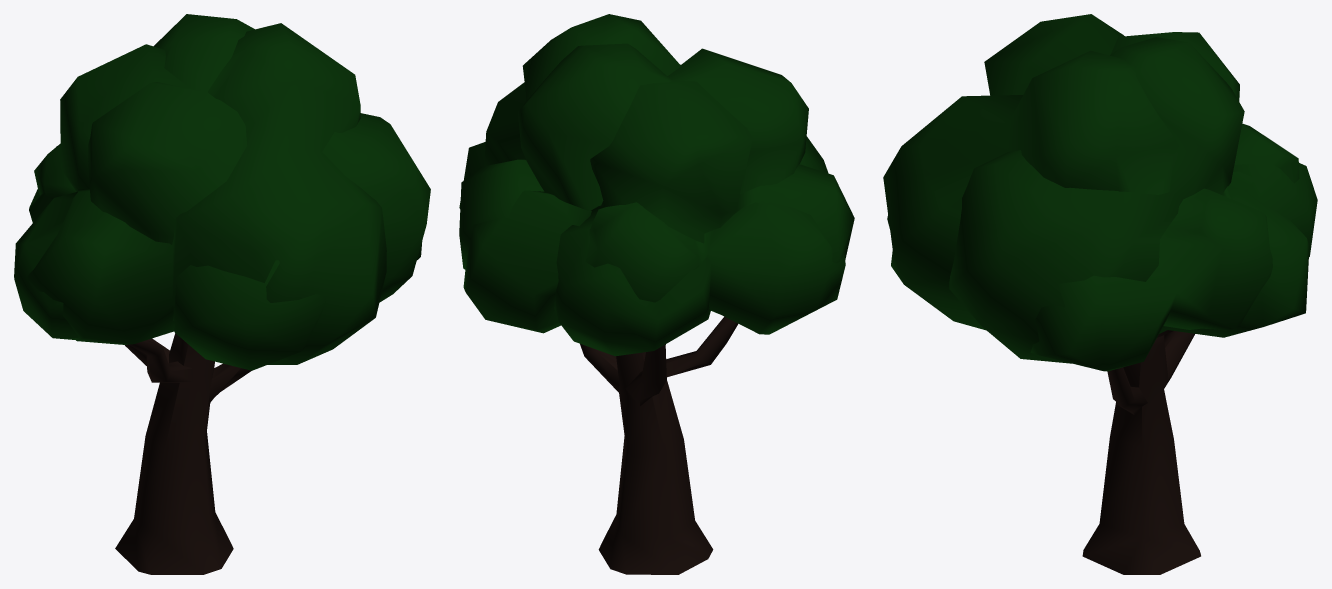
The model's file is tree1.fbx.
The picture shows the model from 3 angles, left to right: view 1: azimuth 30°, elevation 25°; view 2: azimuth 150°, elevation 25°; view 3: azimuth 270°, elevation 25°; orthographic projection. The views are drawn at different scales.
Parts seen in each view (by area): view 1: polySurface10; view 2: polySurface10; view 3: polySurface10.
Part boxes in pixels (box(x1,y1,x2,y2)): polySurface10: box(14, 14, 430, 574); polySurface10: box(459, 14, 854, 574); polySurface10: box(883, 14, 1317, 574).
Size of the model in its own units: 376 by 482 by 361.
